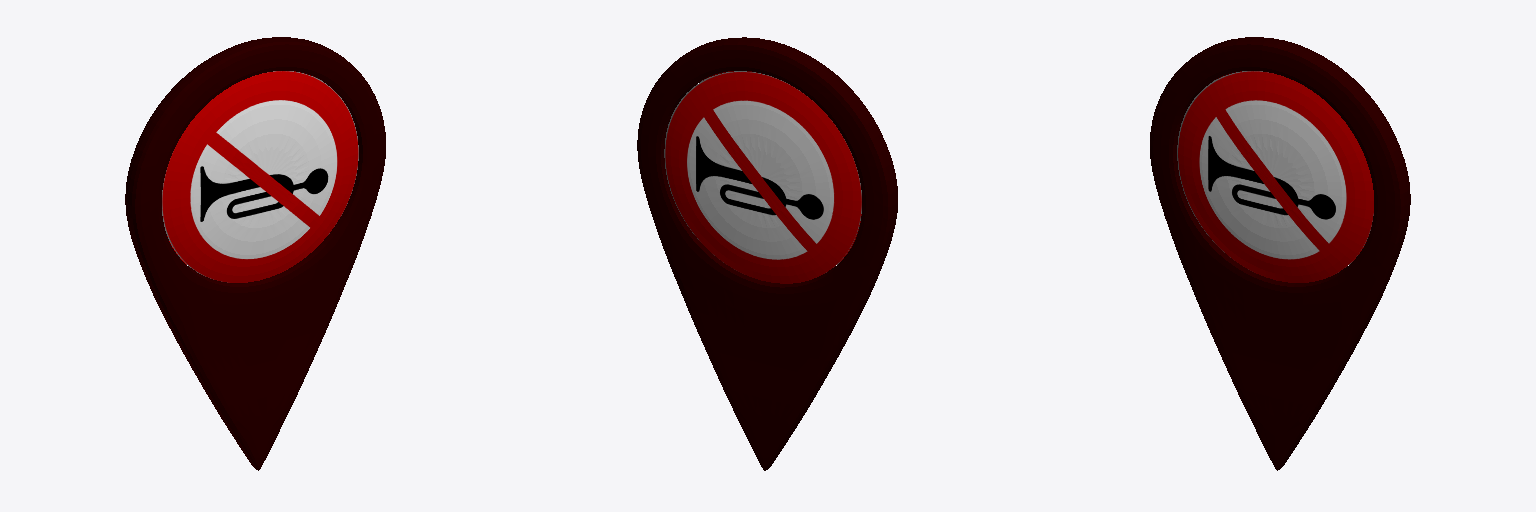
The picture shows the model from 3 angles: view 1: azimuth 30°, elevation 25°; view 2: azimuth 150°, elevation 25°; view 3: azimuth 330°, elevation 25°; orthographic projection.
Parts seen in each view (by area): view 1: Circle.027_Circle.005, Circle.023_Circle.006; view 2: Circle.027_Circle.005, Circle.023_Circle.006; view 3: Circle.027_Circle.005, Circle.023_Circle.006.
Boxes of the visible parts, box(x1,y1,x2,y2) form: Circle.027_Circle.005: box(125, 37, 385, 470); Circle.023_Circle.006: box(162, 71, 358, 282); Circle.027_Circle.005: box(637, 37, 897, 470); Circle.023_Circle.006: box(664, 71, 861, 283); Circle.027_Circle.005: box(1150, 37, 1410, 470); Circle.023_Circle.006: box(1177, 71, 1373, 282).
Bounding box in the file's own units: 2.69 × 4.3 × 0.3594.
Materials: 2 (1 with a texture image).